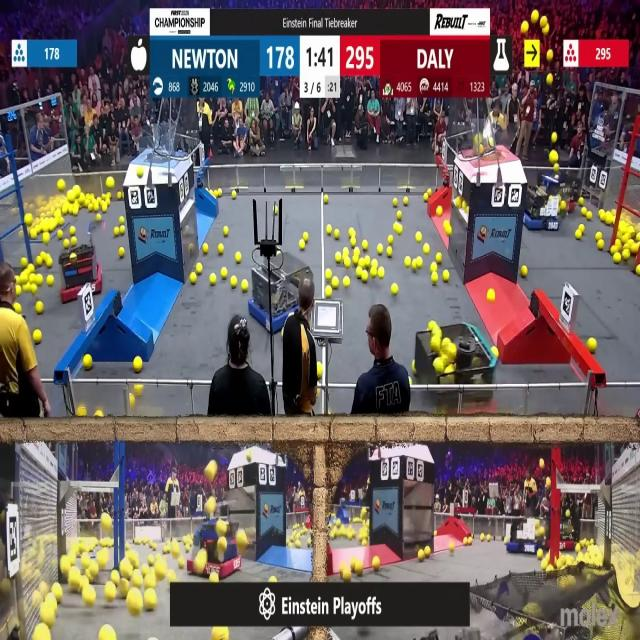ball_airborne: (206, 461, 218, 480), (102, 514, 112, 530), (207, 497, 216, 512), (550, 150, 558, 163), (522, 22, 530, 34), (531, 10, 539, 22), (539, 15, 547, 26), (545, 74, 552, 85), (552, 132, 558, 144), (546, 51, 552, 63), (473, 135, 480, 145), (479, 145, 485, 156), (138, 168, 144, 178), (553, 165, 560, 173), (541, 26, 548, 34), (539, 458, 544, 469), (545, 478, 550, 488), (488, 138, 494, 146), (530, 480, 536, 488)
ball_ground: (128, 590, 144, 612), (195, 553, 208, 576), (145, 592, 156, 612), (36, 626, 50, 640), (85, 589, 96, 606), (101, 627, 115, 640), (54, 585, 64, 603), (106, 585, 116, 602), (353, 560, 362, 576), (157, 562, 167, 576), (120, 563, 130, 577), (342, 568, 352, 581), (0, 580, 10, 593), (134, 356, 142, 371), (83, 354, 91, 369), (146, 575, 156, 587), (589, 339, 597, 353), (133, 574, 142, 586), (316, 362, 323, 377), (34, 329, 42, 342), (373, 557, 381, 570), (111, 570, 119, 582), (606, 212, 614, 224), (210, 572, 218, 583), (615, 252, 623, 263), (444, 271, 451, 283), (36, 303, 43, 315), (242, 280, 249, 292), (210, 274, 217, 286), (488, 288, 494, 302), (416, 256, 423, 268), (445, 220, 452, 232), (59, 179, 66, 191), (352, 255, 360, 265), (77, 408, 85, 418), (32, 275, 40, 285), (428, 320, 436, 330), (359, 256, 367, 266), (403, 256, 410, 267), (361, 271, 368, 282), (42, 233, 49, 244), (394, 222, 401, 233), (107, 177, 114, 188), (424, 545, 431, 556), (170, 571, 177, 582), (26, 214, 33, 225), (172, 542, 179, 553), (356, 268, 362, 280), (134, 384, 142, 393), (203, 244, 210, 254), (13, 304, 20, 314), (597, 240, 604, 250), (336, 252, 343, 262), (46, 276, 53, 286), (369, 268, 376, 278), (418, 552, 425, 562), (36, 256, 43, 266), (220, 269, 227, 279), (344, 257, 351, 267), (623, 250, 630, 260), (632, 244, 639, 254), (142, 564, 149, 574), (522, 267, 528, 278), (232, 277, 238, 288), (189, 274, 195, 285), (325, 286, 331, 297), (20, 259, 26, 270), (148, 555, 154, 566), (600, 211, 606, 222), (348, 230, 356, 238), (430, 264, 437, 273), (435, 207, 442, 216), (28, 264, 35, 273), (236, 252, 242, 262), (391, 284, 397, 294), (379, 269, 385, 279), (431, 274, 437, 284), (195, 265, 201, 275), (344, 277, 350, 287), (416, 233, 422, 243), (218, 244, 224, 254), (423, 244, 429, 254), (179, 558, 185, 568), (404, 198, 410, 208), (222, 226, 228, 236), (331, 278, 337, 288), (32, 284, 38, 294), (536, 550, 542, 560), (335, 230, 341, 240), (587, 210, 593, 220), (325, 270, 331, 280), (540, 560, 546, 570), (455, 199, 461, 209), (492, 347, 498, 357), (560, 202, 566, 212), (72, 206, 78, 216), (409, 256, 414, 268), (548, 563, 554, 573), (154, 554, 160, 564), (270, 575, 277, 583), (370, 258, 377, 266), (16, 276, 23, 284), (362, 241, 368, 250), (435, 253, 441, 262), (298, 241, 304, 250), (378, 245, 384, 254), (396, 211, 402, 220), (579, 207, 585, 216), (578, 198, 584, 207), (610, 245, 616, 254), (70, 238, 76, 247), (387, 247, 392, 257), (118, 248, 123, 258), (413, 262, 418, 272), (328, 224, 333, 234), (96, 412, 103, 419), (574, 232, 580, 240), (70, 226, 76, 234), (596, 233, 602, 241), (578, 223, 584, 231), (118, 216, 124, 224), (64, 240, 70, 248), (165, 544, 171, 552), (59, 216, 65, 224), (106, 190, 112, 198), (617, 240, 623, 248), (95, 205, 101, 213), (15, 286, 20, 295), (450, 541, 455, 550), (304, 233, 309, 242), (46, 258, 51, 267), (388, 236, 393, 245), (351, 239, 356, 248), (344, 247, 349, 256), (31, 231, 36, 240), (102, 206, 108, 213), (636, 266, 640, 276), (59, 232, 64, 240), (119, 225, 124, 233), (464, 536, 469, 544), (354, 247, 359, 255), (295, 539, 300, 547), (488, 537, 493, 545), (503, 536, 508, 544), (114, 226, 118, 235), (116, 191, 121, 198), (362, 539, 367, 546), (185, 543, 190, 550), (90, 205, 95, 212), (393, 200, 397, 208), (324, 194, 328, 202), (234, 190, 238, 198), (97, 214, 101, 222), (218, 188, 222, 196), (275, 207, 279, 215), (424, 193, 428, 200), (482, 534, 486, 541), (636, 235, 640, 242), (410, 378, 413, 386), (433, 530, 436, 536)
goal: (466, 123, 521, 160), (130, 130, 189, 160)
robot_blue: (250, 244, 300, 334), (522, 180, 564, 232), (508, 515, 549, 555)
robot_red: (426, 322, 500, 414), (193, 515, 243, 577), (58, 242, 100, 304), (619, 162, 640, 220), (559, 512, 581, 550)
